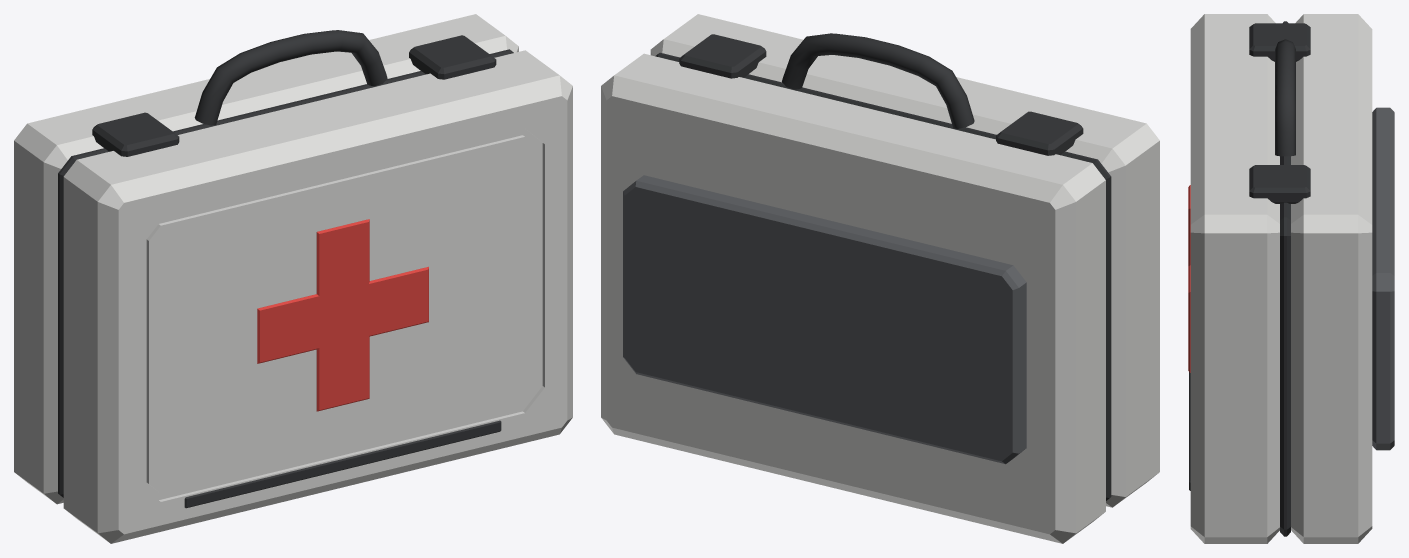
File: eqm14_first_aid_kit.glb
3 views of the same model, side by side, from view 1: azimuth 30°, elevation 25°; view 2: azimuth 150°, elevation 25°; view 3: azimuth 270°, elevation 25° (orthographic). The views are drawn at different scales.
Visible parts, largest first — view 1: eqm14_lid, eqm14_case, eqm14_handle, eqm14_latches; view 2: eqm14_case, eqm14_lid, eqm14_handle, eqm14_latches; view 3: eqm14_case, eqm14_lid, eqm14_latches, eqm14_handle.
Part boxes in pixels (x1,y1,x2,y2): eqm14_lid: [63, 50, 572, 543]; eqm14_case: [14, 14, 518, 504]; eqm14_handle: [194, 30, 387, 125]; eqm14_latches: [92, 35, 496, 156]; eqm14_case: [601, 52, 1111, 543]; eqm14_lid: [650, 14, 1159, 507]; eqm14_handle: [782, 33, 974, 128]; eqm14_latches: [679, 34, 1083, 155]; eqm14_case: [1280, 14, 1394, 543]; eqm14_lid: [1188, 14, 1279, 543]; eqm14_latches: [1249, 23, 1310, 203]; eqm14_handle: [1275, 39, 1295, 156].
Size of the model in its own units: 0.36 by 0.3034 by 0.1475.
